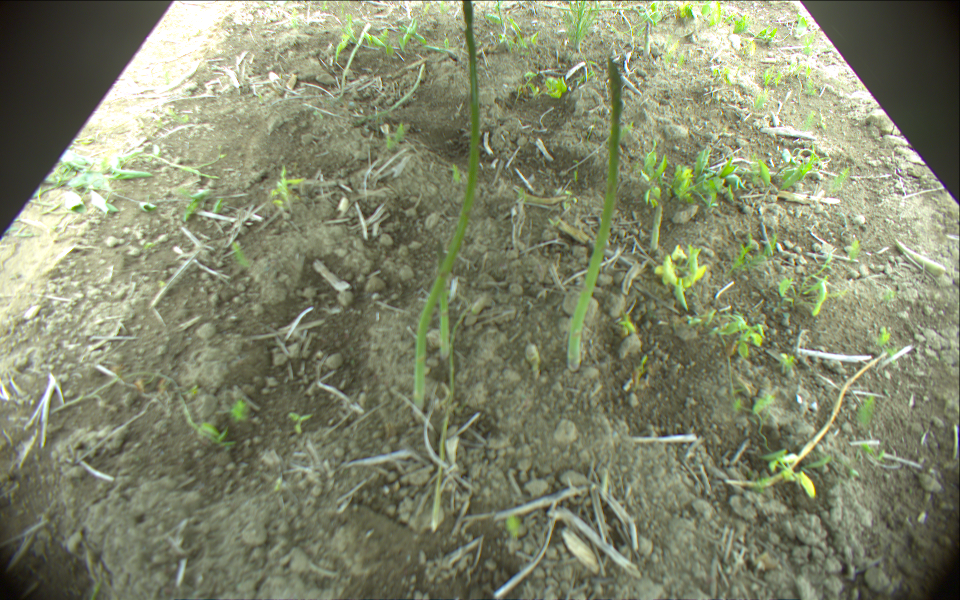aspa: (412, 1, 480, 413), (567, 56, 621, 371), (432, 304, 470, 529), (358, 63, 424, 125), (328, 25, 370, 103), (438, 239, 449, 360), (650, 200, 664, 251), (545, 4, 646, 11), (644, 21, 650, 59)
